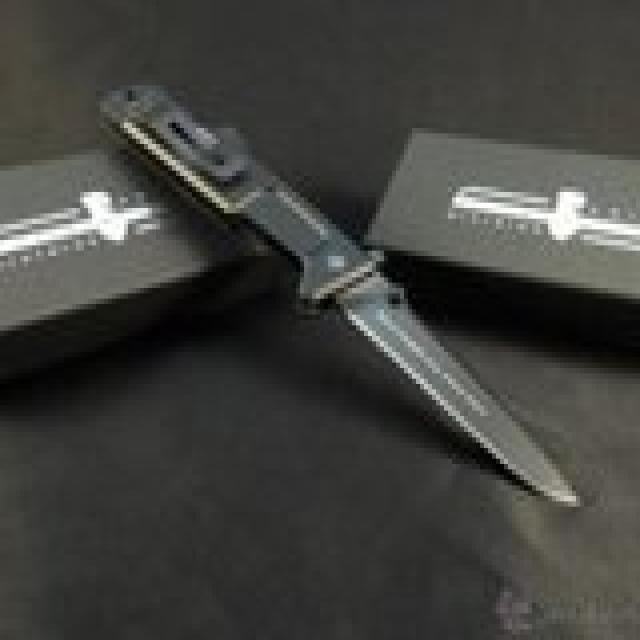Knife: (91, 65, 592, 513)
